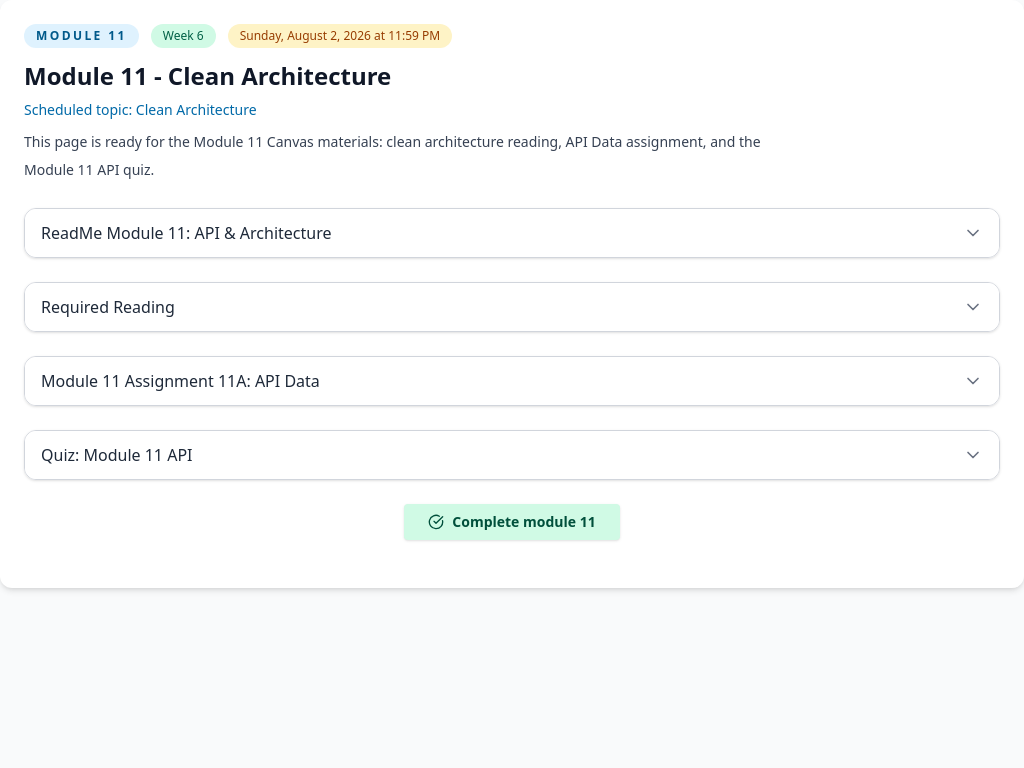
it: <AssignmentMod11 /> › renders the complete Module 11 API quiz instead of a placeholder
Click the button "Quiz: Module 11 API". click: [117, 455]
box: [25,431,999,479]
(page scrolled)
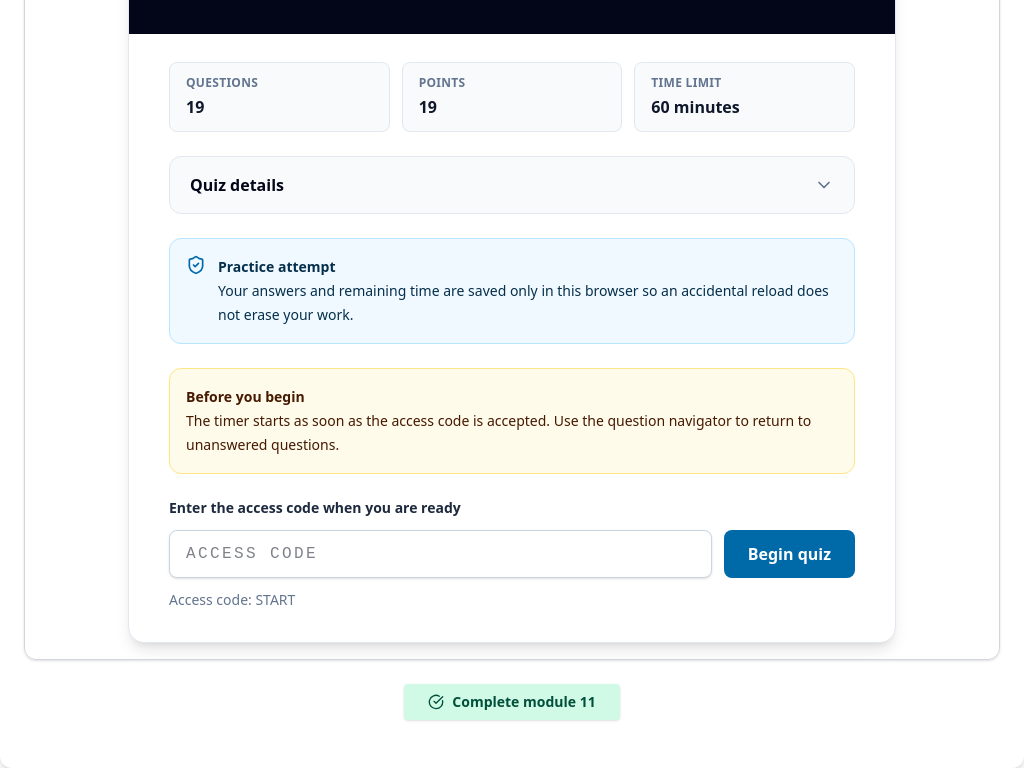
Check: the button "Begin quiz" is shown, box [724,530,855,578]
